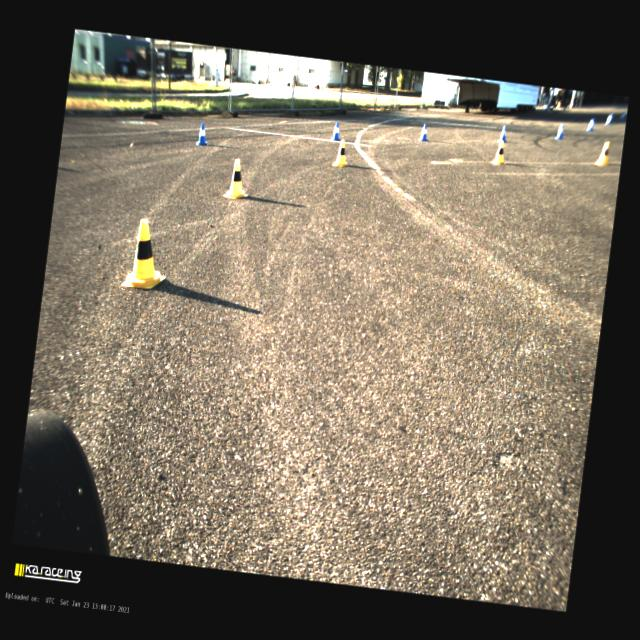blue_cone: (195, 122, 210, 146), (330, 120, 342, 142), (418, 122, 430, 142), (496, 124, 508, 143), (554, 123, 564, 140), (585, 118, 594, 132), (604, 112, 612, 125), (619, 111, 625, 123)
yellow_cone: (121, 217, 172, 290), (223, 157, 251, 200), (332, 138, 350, 168), (594, 138, 612, 166), (490, 138, 508, 165)
